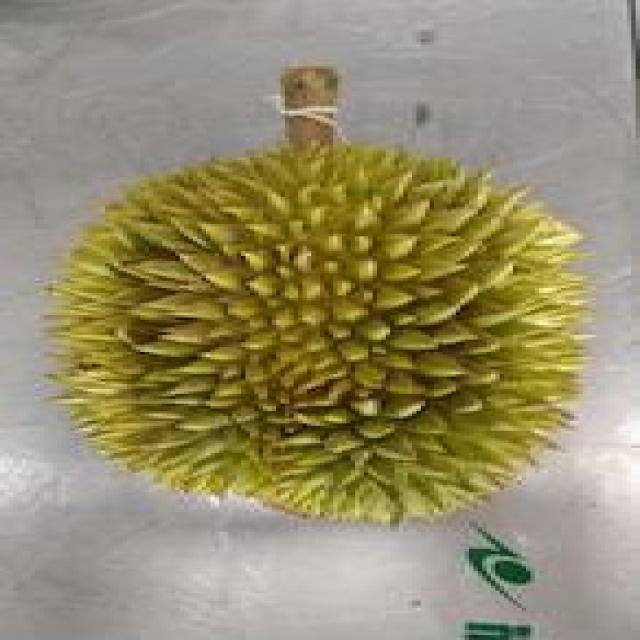immature: (51, 139, 589, 525)
